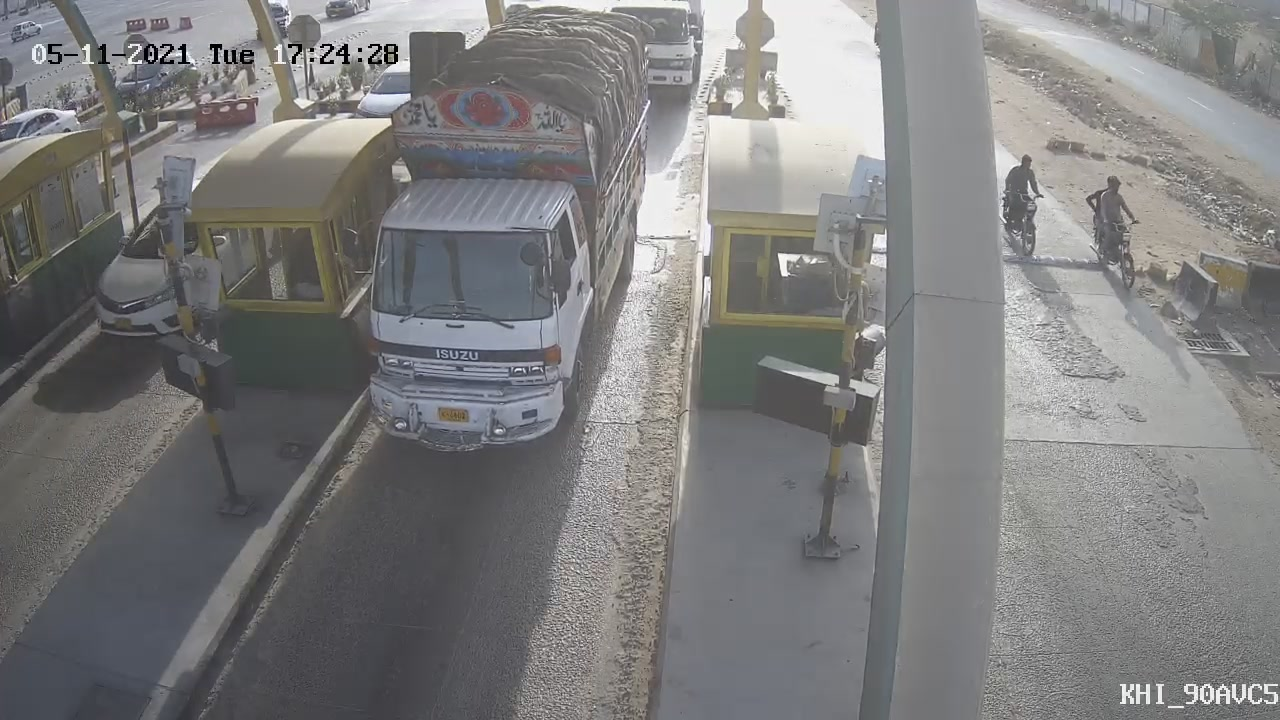F5: (317, 1, 698, 491)
